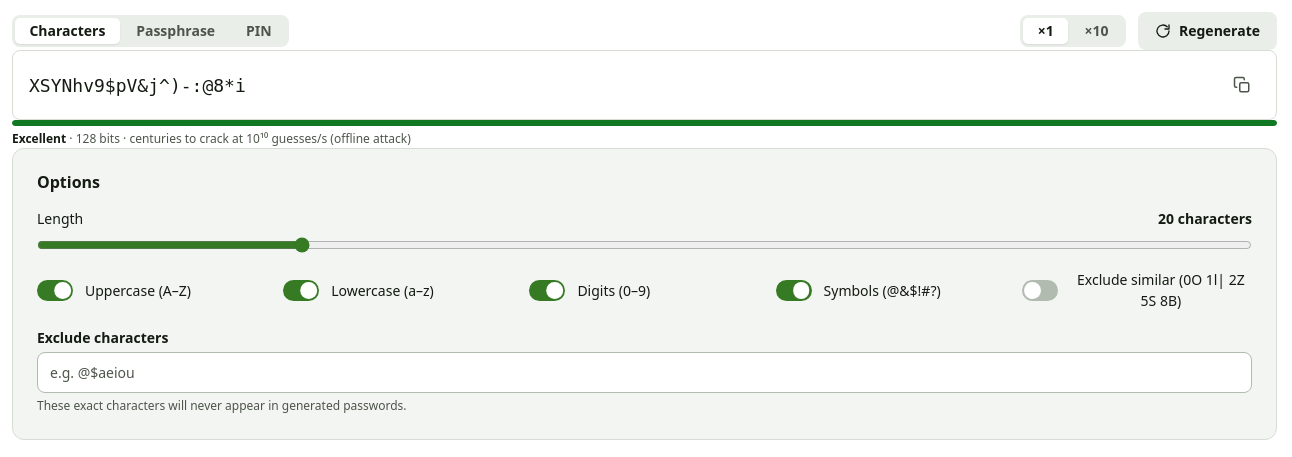
Test: GeneratorView — PIN mode › offers no character-class or exclusion controls
Click the radio button labelled "PIN" at x=259, y=31, box [232,18,286,44]
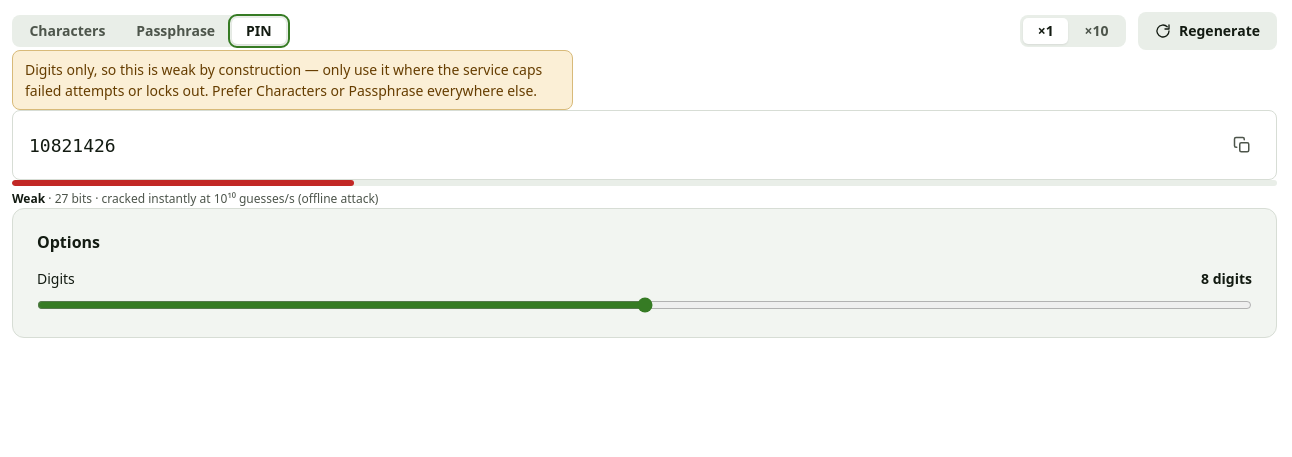
expect the switch labelled "Uppercase" is gone: met
expect the label labelled "Exclude characters" is gone: met
